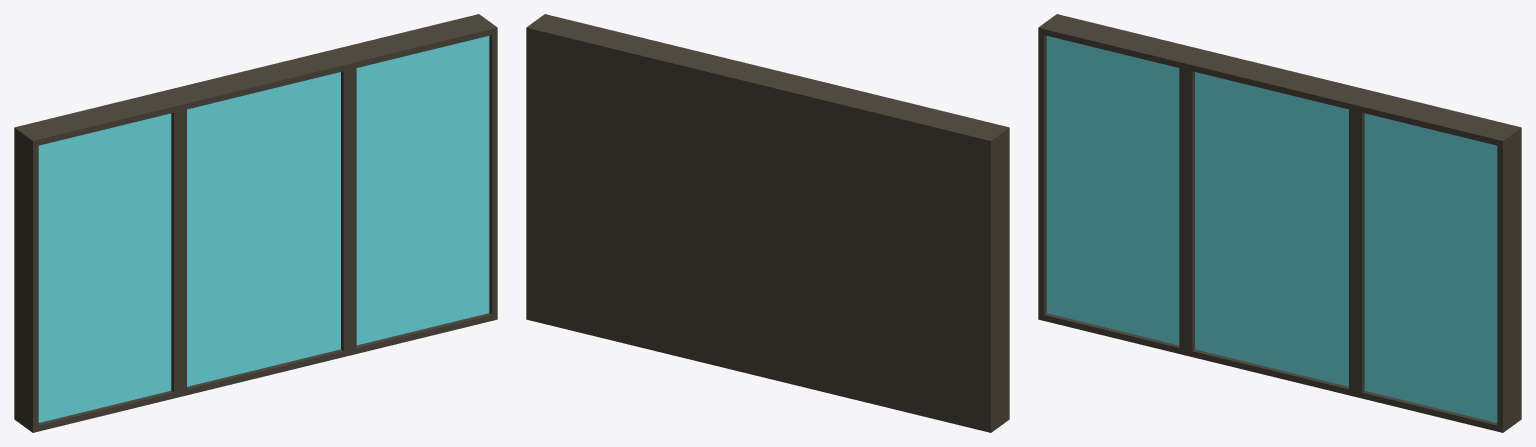
File: P_facadeSIMPLE1AvecBF.FBX
3 renders of one model, left to right at view 1: azimuth 30°, elevation 25°; view 2: azimuth 150°, elevation 25°; view 3: azimuth 330°, elevation 25°, orthographic.
Visible parts, largest first — view 1: Box019; view 2: Box019; view 3: Box019.
Boxes of the visible parts, x1,y1,x2,y2 form: Box019: (14, 14, 497, 432); Box019: (526, 14, 1009, 432); Box019: (1038, 14, 1521, 432).
Size of the model in its own units: 500 by 34.77 by 300.
